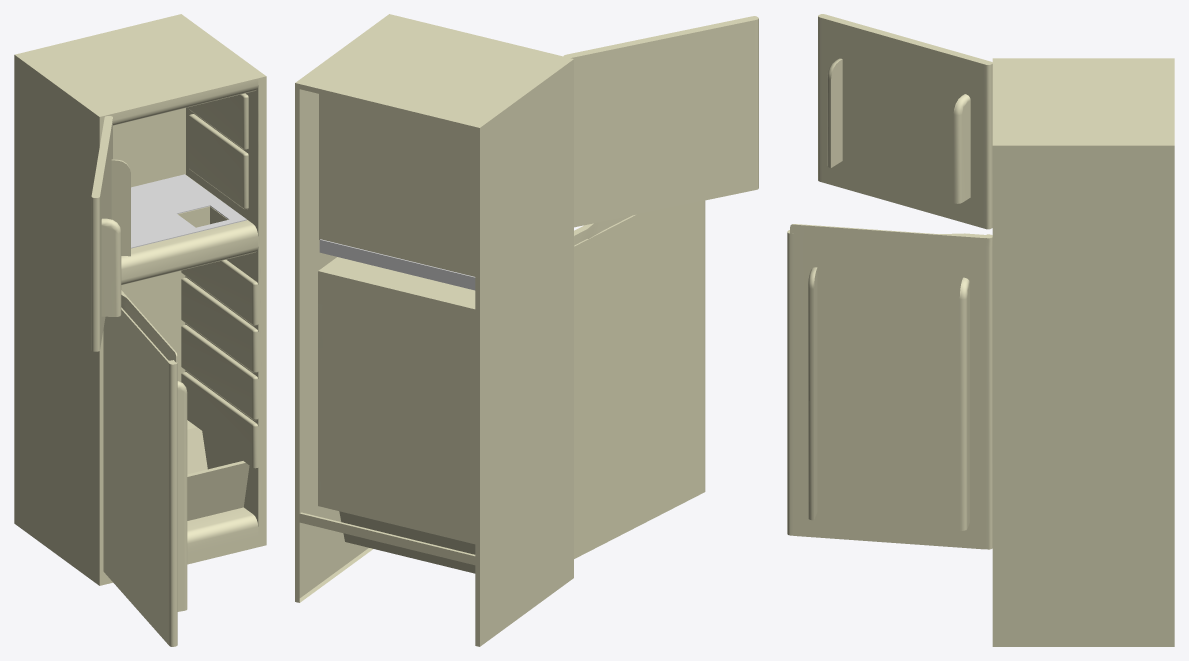
Rendered from whatthefridge.fbx.
The picture shows the model from 3 angles, left to right: view 1: azimuth 30°, elevation 25°; view 2: azimuth 150°, elevation 25°; view 3: azimuth 270°, elevation 25°; orthographic projection. The views are drawn at different scales.
Visible parts, largest first — view 1: Fridge.006, Cube.104; view 2: Fridge.006, Cube.104; view 3: Fridge.006.
Boxes of the visible parts, x1,y1,x2,y2 form: Fridge.006: (14, 14, 266, 646); Cube.104: (131, 174, 246, 248); Fridge.006: (295, 14, 758, 646); Cube.104: (319, 239, 475, 290); Fridge.006: (787, 14, 1174, 646).
Size of the model in its own units: 9127 by 16108 by 11277.
